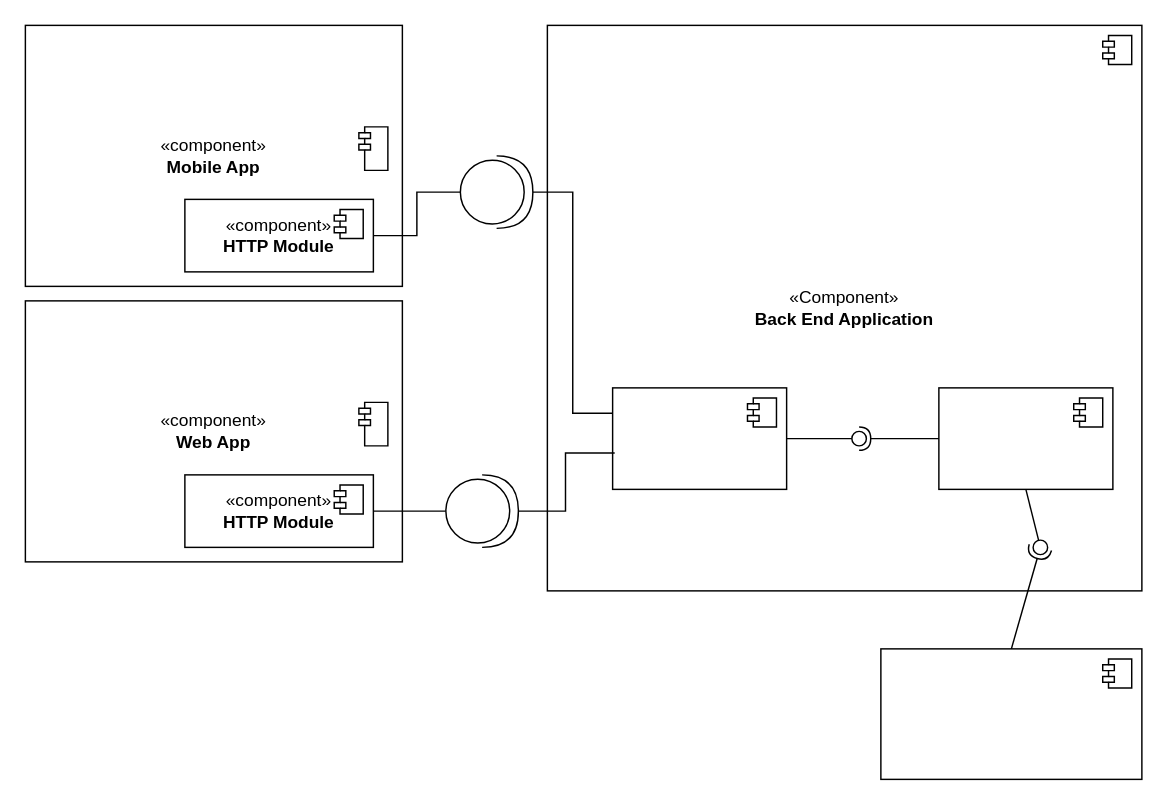
This 1167x805 diagram has some shape labels left out. Each missing label, with the centre of its shape:
"«Component» Application Server" goes at point 1025,437.
"«Component» Database" goes at point 1010,713.
"«Component» Request Parser" goes at point 699,437.
